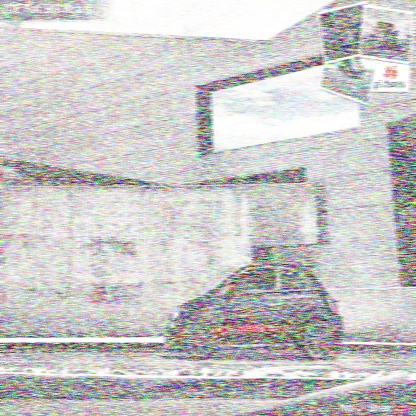Vehicle: (163, 246, 345, 365)
